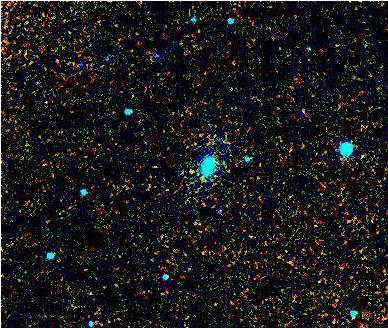star: (176, 158, 206, 188)
